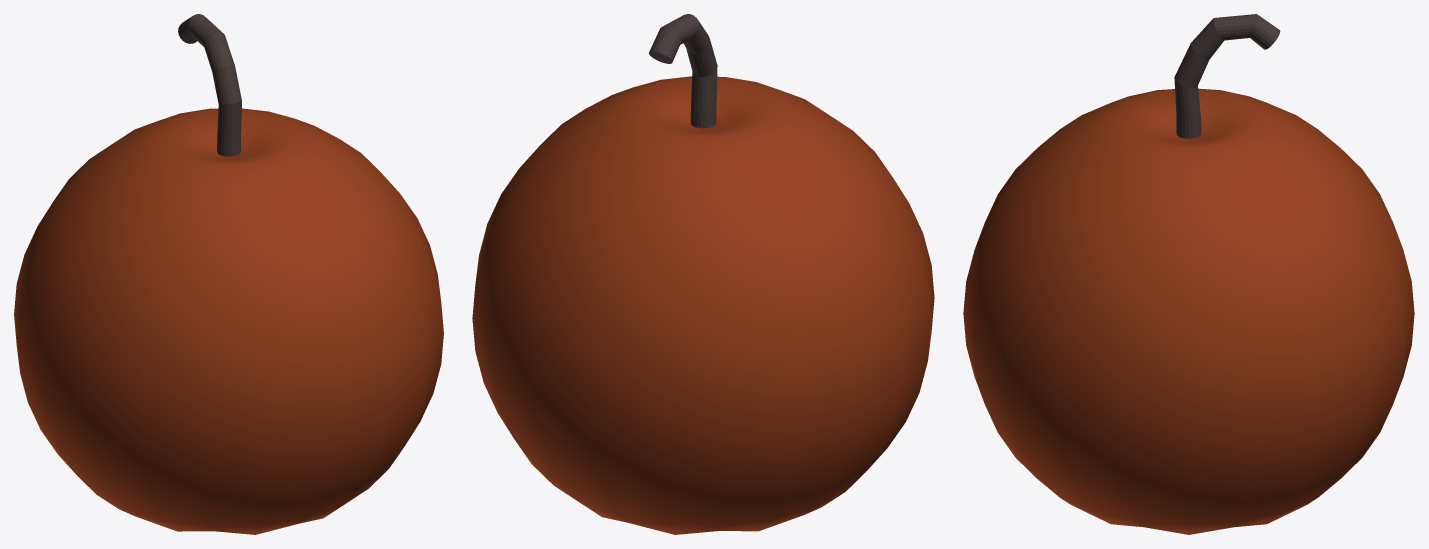
File: Apple_Blockout.fbx
3 renders of one model, left to right at view 1: azimuth 30°, elevation 25°; view 2: azimuth 150°, elevation 25°; view 3: azimuth 270°, elevation 25°, orthographic. The views are drawn at different scales.
Parts seen in each view (by area): view 1: pSphere1; view 2: pSphere1; view 3: pSphere1.
Boxes of the visible parts, <box> form: pSphere1: <box>14,14,443,534</box>; pSphere1: <box>472,14,934,534</box>; pSphere1: <box>963,14,1414,534</box>.
Bounding box in the file's own units: 59.75 × 67.77 × 59.75.
